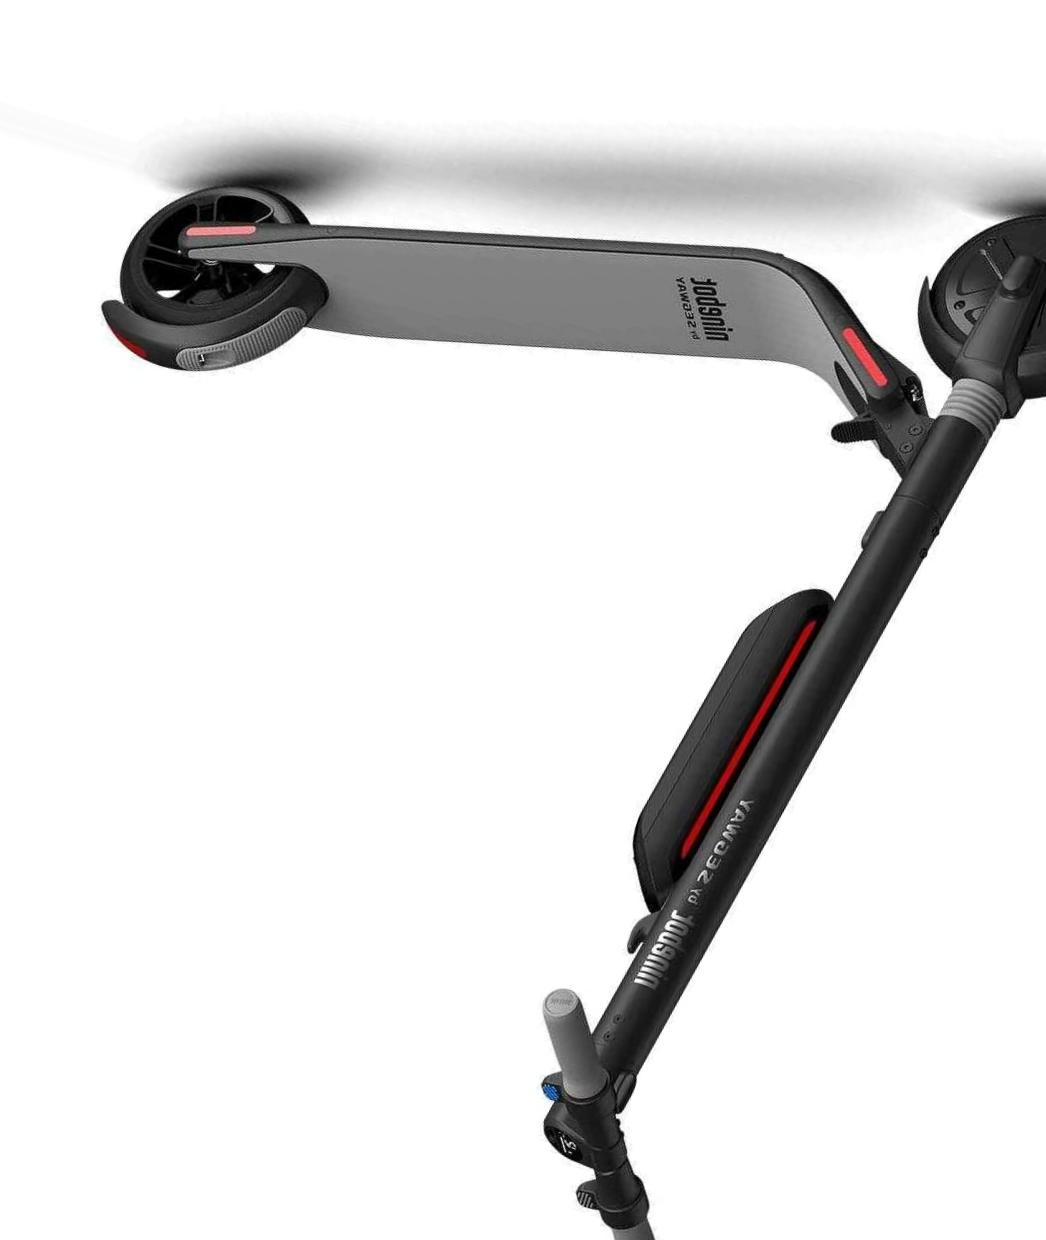scooter: (99, 182, 1046, 1240)
